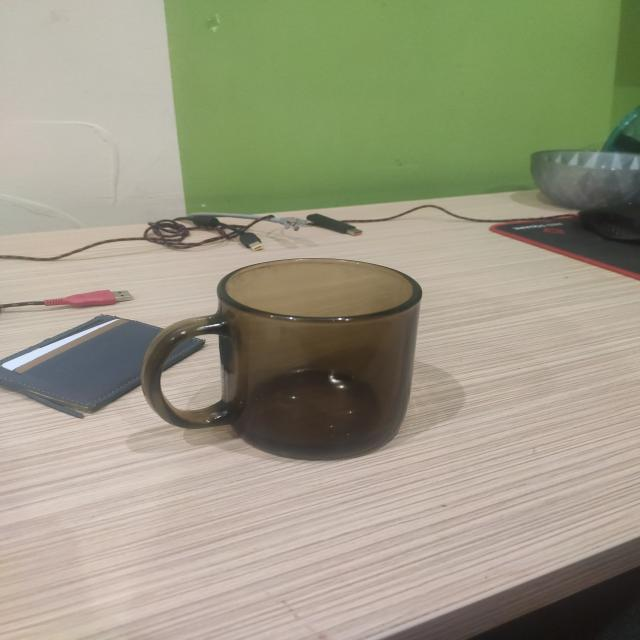cups: (141, 258, 422, 460)
